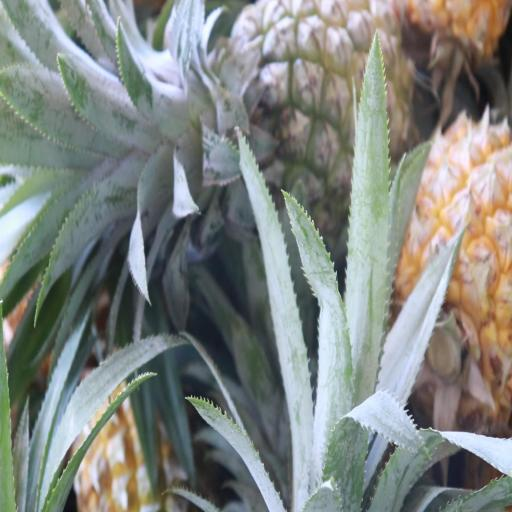Pineapple - v8 v1: (385, 120, 512, 426)
